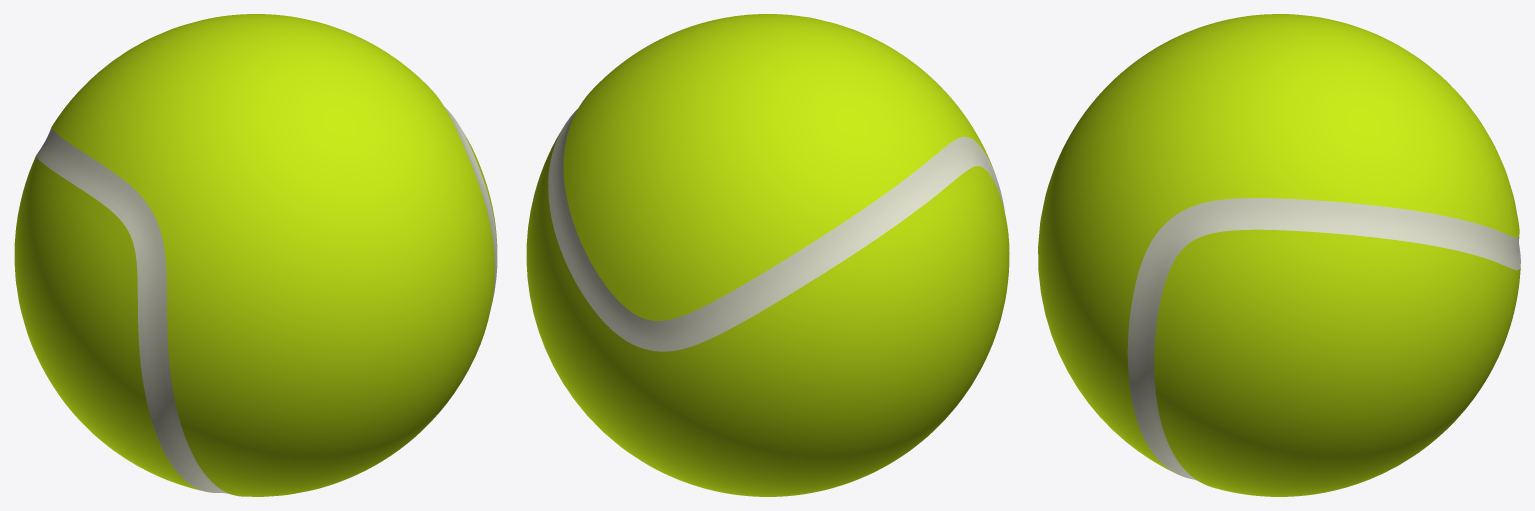
The picture shows the model from 3 angles, left to right: view 1: azimuth 30°, elevation 25°; view 2: azimuth 150°, elevation 25°; view 3: azimuth 270°, elevation 25°; orthographic projection.
Visible parts, largest first — view 1: MESH_tennis-ball; view 2: MESH_tennis-ball; view 3: MESH_tennis-ball.
Boxes of the visible parts, x1=… form: MESH_tennis-ball: x1=14, y1=14, x2=497, y2=496; MESH_tennis-ball: x1=526, y1=14, x2=1009, y2=496; MESH_tennis-ball: x1=1038, y1=14, x2=1520, y2=496.
Bounding box in the file's own units: 0.067 × 0.067 × 0.067.
